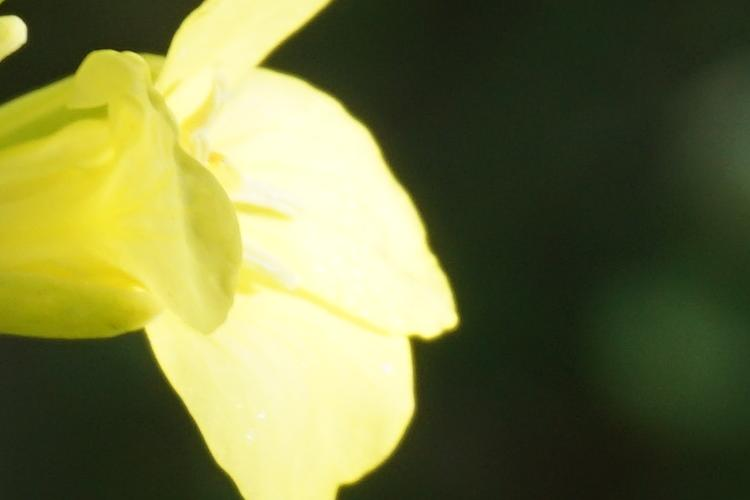yellow: (22, 15, 451, 483)
